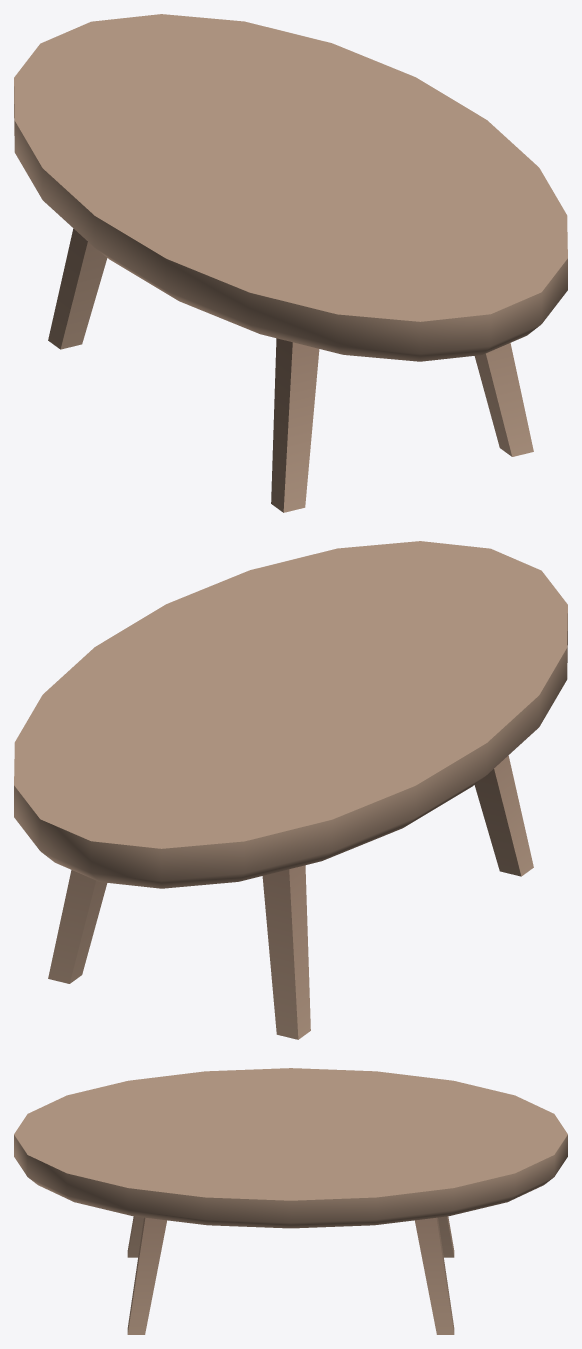
File: table-coffee-ellipse.glb
3 views of the same model, one above another, from view 1: azimuth 30°, elevation 25°; view 2: azimuth 150°, elevation 25°; view 3: azimuth 270°, elevation 25° (orthographic). The views are drawn at different scales.
Parts seen in each view (by area): view 1: table-coffee-ellipse; view 2: table-coffee-ellipse; view 3: table-coffee-ellipse.
Part boxes in pixels (left/top/right/bottom): table-coffee-ellipse: left=14, top=14, right=567, bottom=512; table-coffee-ellipse: left=14, top=541, right=567, bottom=1039; table-coffee-ellipse: left=14, top=1068, right=567, bottom=1334.
Bounding box in the file's own units: 0.68 × 0.378 × 1.2.
